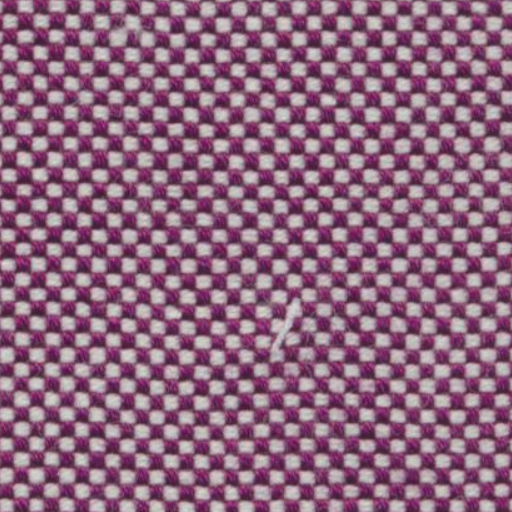DuanSha: (249, 282, 325, 369)
